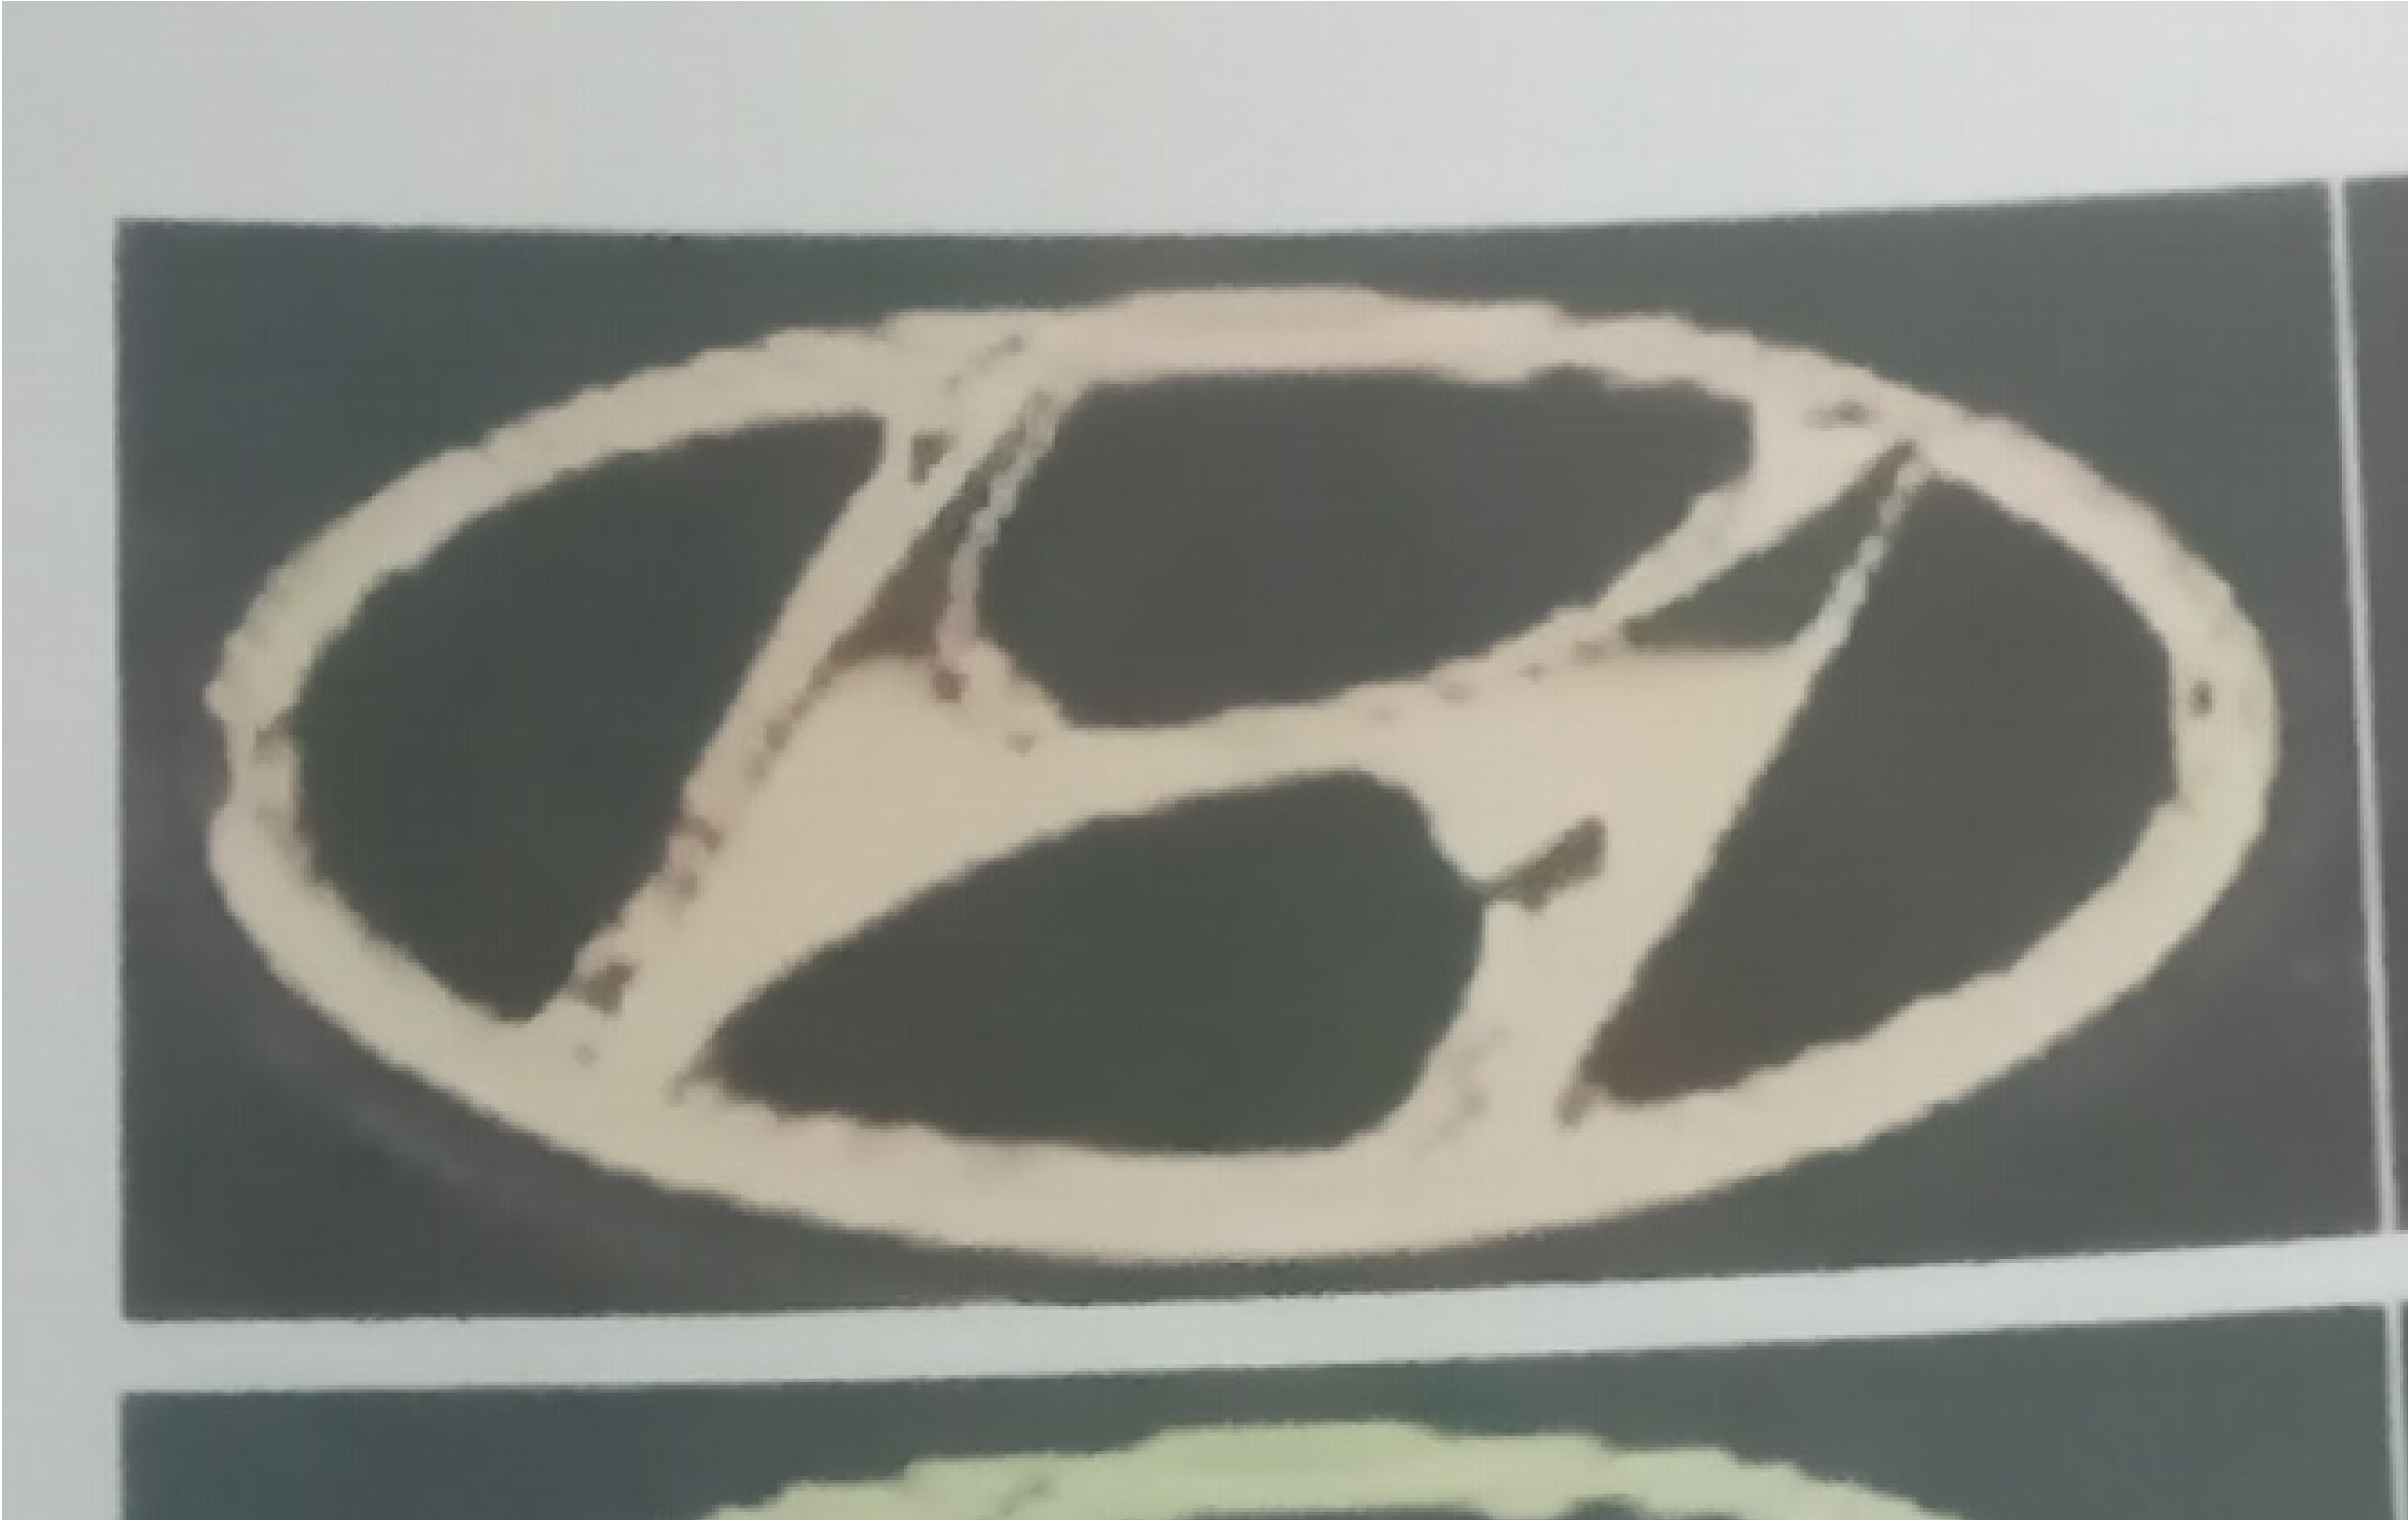Hyundai: (39, 152, 2354, 1327)
